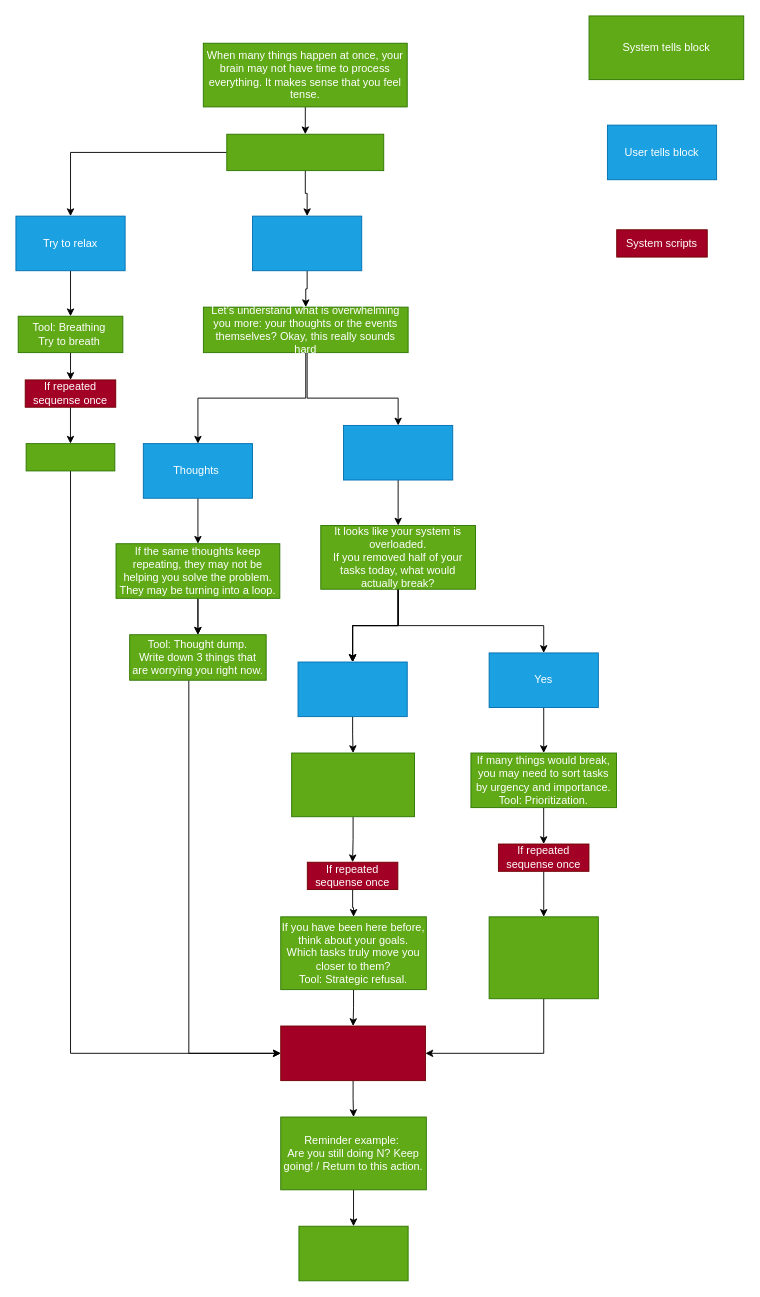
The diagram is 760 pixels wide and 1297 high, and some of its shapes have lost their labels. Here are the shapes that lost their labels. From the top down, the centre of each, then its label:
At (305,152): "Do you wanna resolve problem or just relax?".
At (307,243): "Try to resolve".
At (70,457): "Tool: Grounding".
At (398,452): "Events".
At (352,689): "No".
At (353,784): "Try to reduce your workload. Tool: Working with over-responsibility.".
At (543,957): "Don't be afraid to ask for help with your tasks Tool: Asking for support.".
At (352,1053): "If sequence repeated once: Maybe script 5 reminders to work with tools".
At (353,1253): "One small step is enough for today. Come back to this later if you need to".
